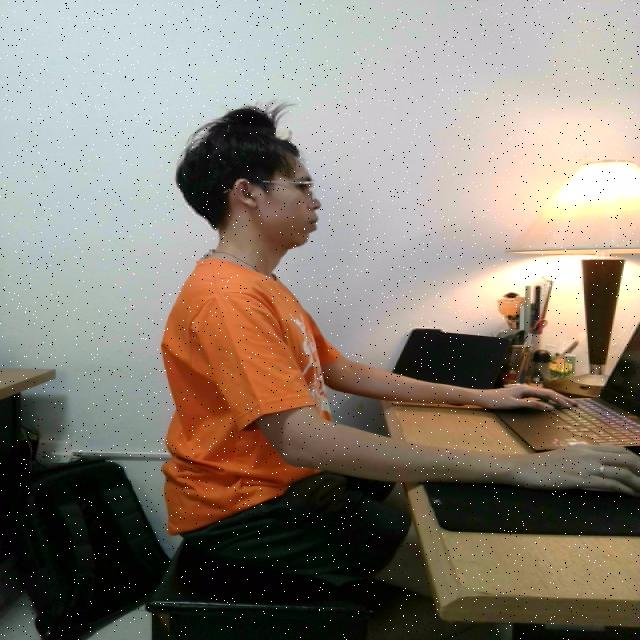Good: (147, 102, 417, 574)
